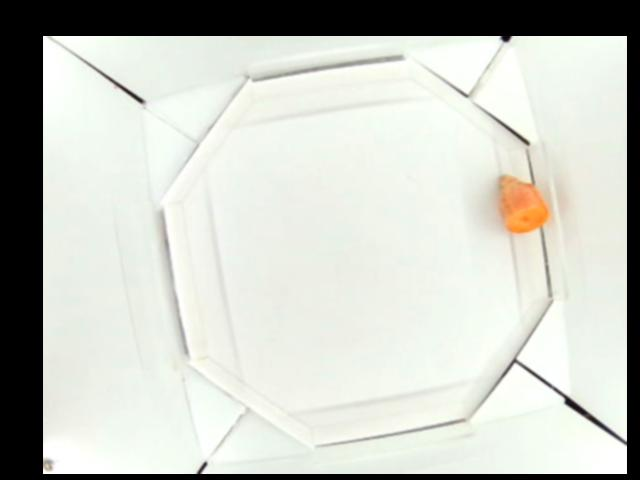Carrot: (497, 172, 549, 233)
